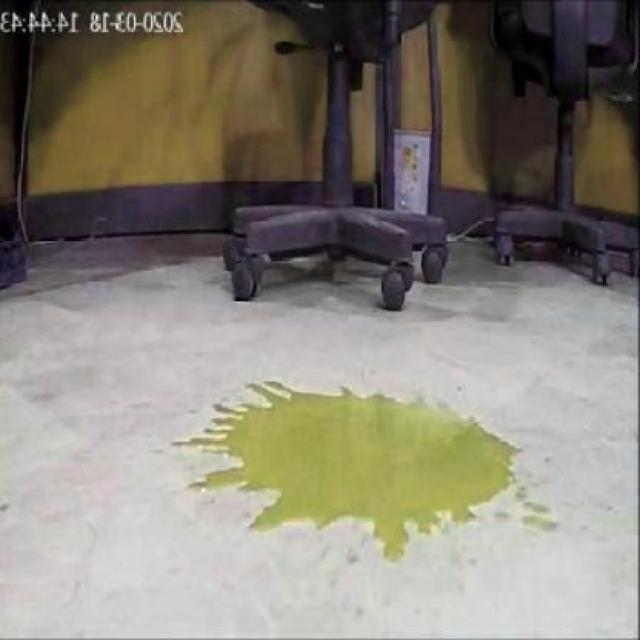spillage: (178, 380, 523, 561)
